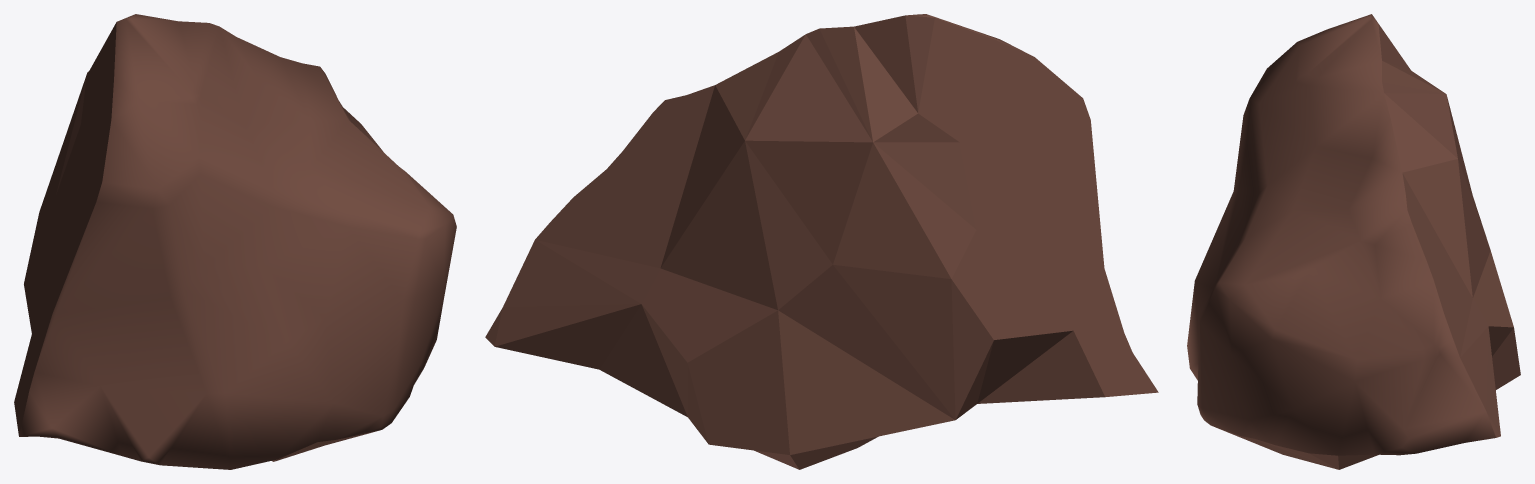
The model's file is p_mesh_hvs_rock_medium01_destruction_part02.fbx.
3 renders of one model, left to right at view 1: azimuth 30°, elevation 25°; view 2: azimuth 150°, elevation 25°; view 3: azimuth 270°, elevation 25°, orthographic. The views are drawn at different scales.
Visible parts, largest first — view 1: p_medium_destruction_part02; view 2: p_medium_destruction_part02; view 3: p_medium_destruction_part02.
Boxes of the visible parts, x1,y1,x2,y2 form: p_medium_destruction_part02: (14,14,456,469); p_medium_destruction_part02: (485,14,1158,469); p_medium_destruction_part02: (1187,14,1520,469).
Size of the model in its own units: 6.34 by 5.38 by 4.3.
